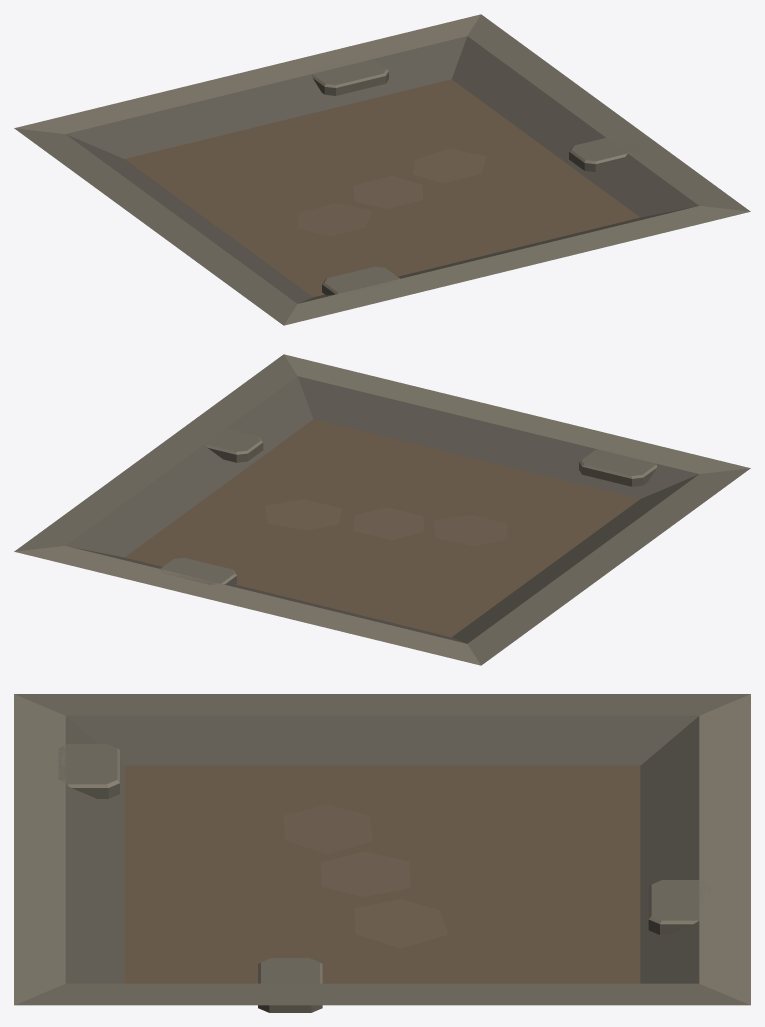
The model's file is pond_dry_4m.glb.
3 views of the same model, one above another, from view 1: azimuth 30°, elevation 25°; view 2: azimuth 150°, elevation 25°; view 3: azimuth 270°, elevation 25° (orthographic). The views are drawn at different scales.
Visible parts, largest first — view 1: Body_pond_dry_4m.001; view 2: Body_pond_dry_4m.001; view 3: Body_pond_dry_4m.001.
Part boxes in pixels (bbox=[...]): Body_pond_dry_4m.001: bbox=[14, 14, 750, 325]; Body_pond_dry_4m.001: bbox=[14, 354, 750, 665]; Body_pond_dry_4m.001: bbox=[14, 694, 750, 1012].
Bounding box in the file's own units: 4 × 0.15 × 4.
